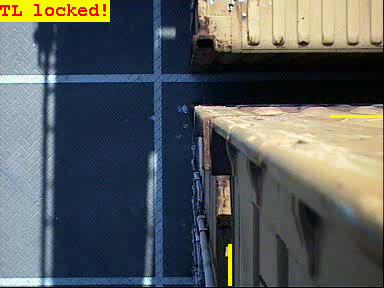groundmarker_2: (143, 17, 197, 51), (143, 168, 197, 202)
